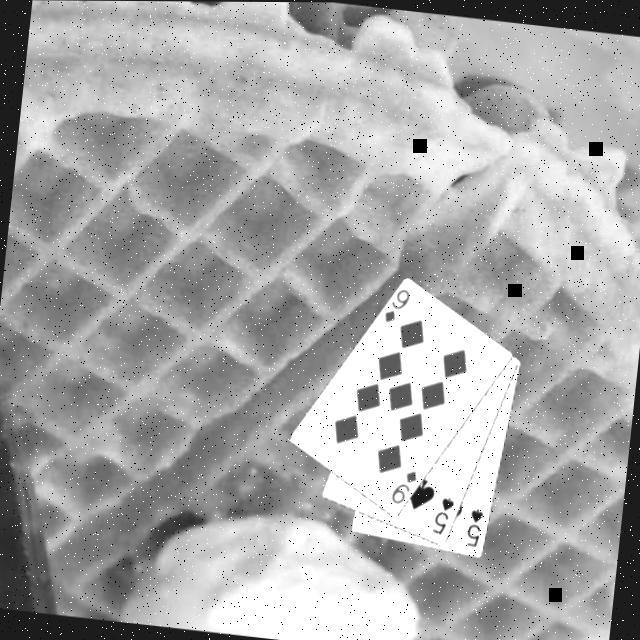5S: (431, 494, 459, 540), (464, 507, 488, 552)
9D: (381, 284, 415, 330), (388, 467, 422, 510)
